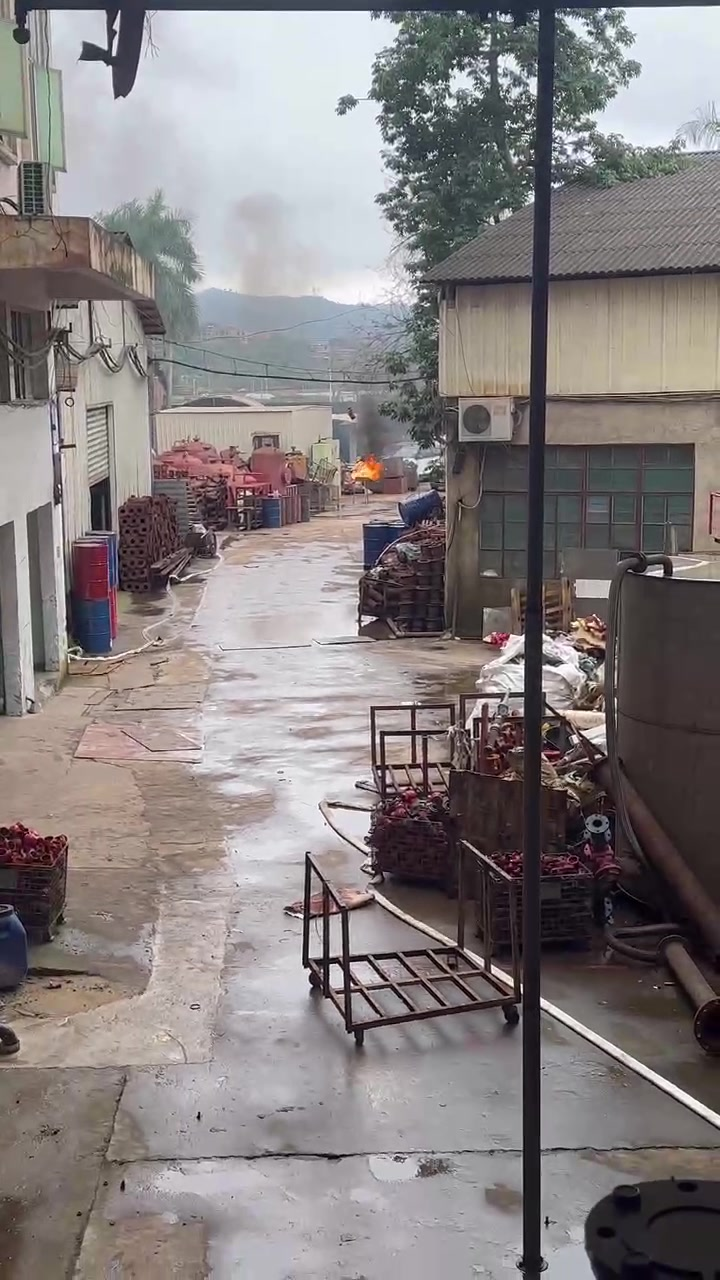fire: (350, 454, 383, 479)
